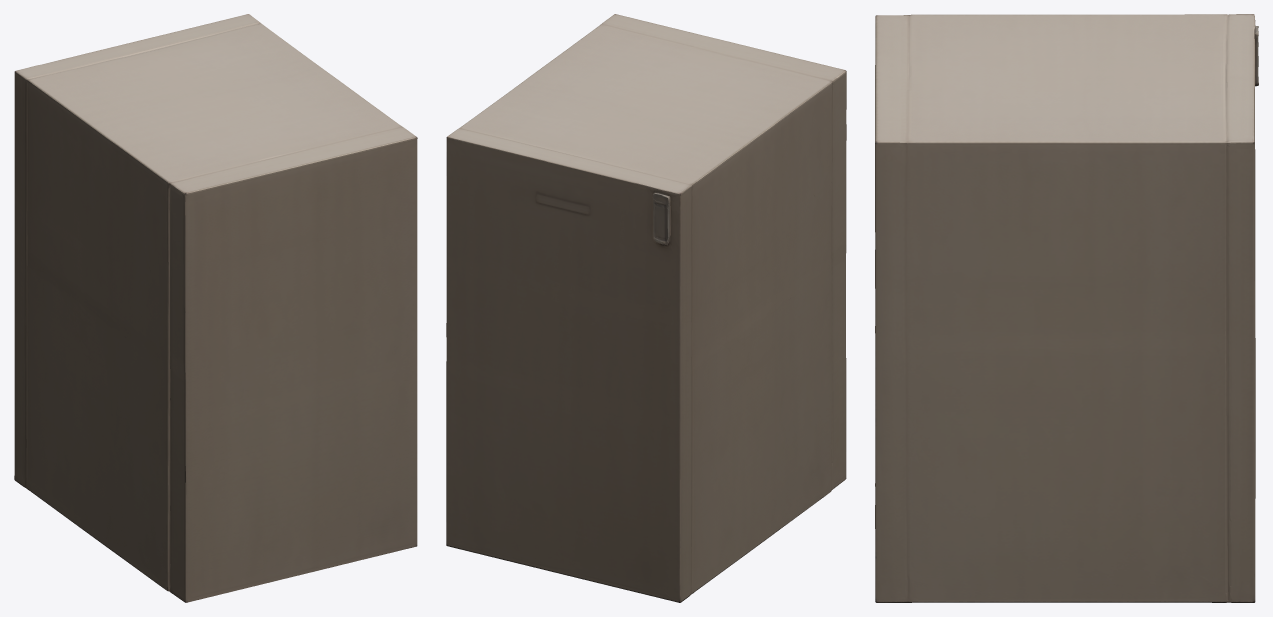
3 renders of one model, left to right at view 1: azimuth 30°, elevation 25°; view 2: azimuth 150°, elevation 25°; view 3: azimuth 270°, elevation 25°, orthographic. The views are drawn at different scales.
Parts seen in each view (by area): view 1: world; view 2: world; view 3: world.
Part boxes in pixels (x1,y1,x2,y2): world: (14,14,417,602); world: (446,14,846,602); world: (875,14,1258,602).
Bounding box in the file's own units: 0.6 × 1 × 0.7553.
1 material, 1 textured.
